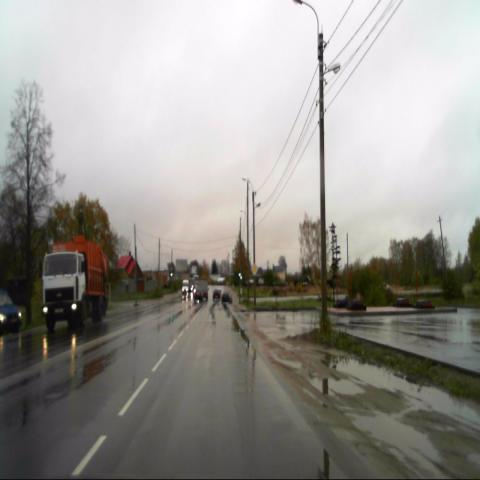2_1: (250, 260, 258, 275)
